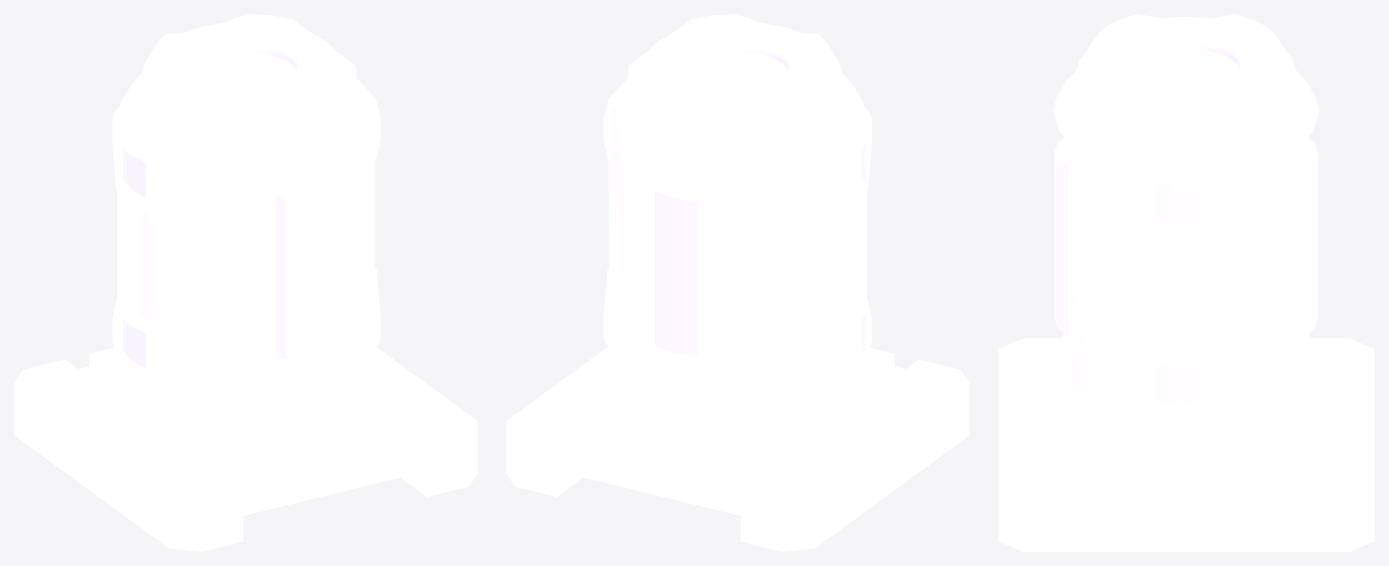
File: Warehouse_Assets_Pallet_Small_Barrel.glb
3 views of the same model, side by side, from view 1: azimuth 30°, elevation 25°; view 2: azimuth 150°, elevation 25°; view 3: azimuth 270°, elevation 25° (orthographic). The views are drawn at different scales.
Parts seen in each view (by area): view 1: Pallet_Small_Barrel; view 2: Pallet_Small_Barrel; view 3: Pallet_Small_Barrel.
Boxes of the visible parts, x1=… form: Pallet_Small_Barrel: x1=14, y1=14, x2=477, y2=551; Pallet_Small_Barrel: x1=506, y1=14, x2=969, y2=551; Pallet_Small_Barrel: x1=998, y1=14, x2=1374, y2=551.
Size of the model in its own units: 1 by 1.24 by 1.
